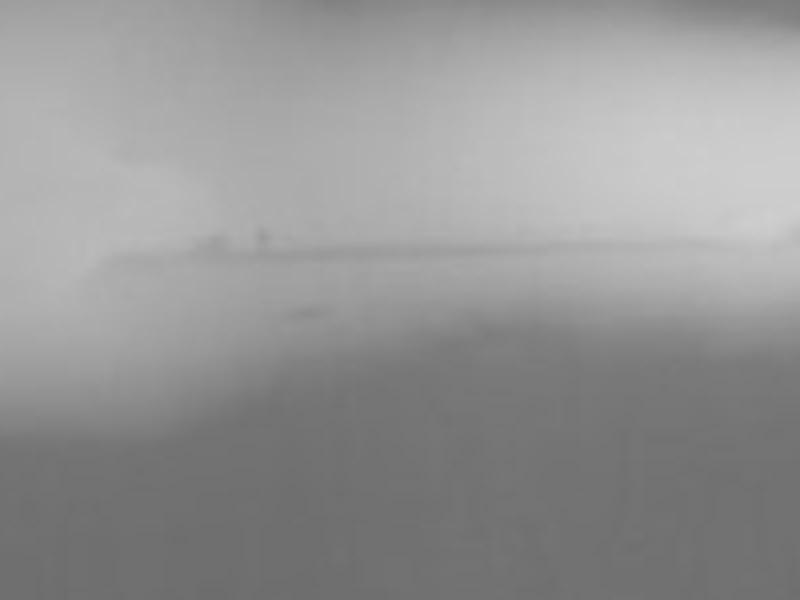defect: (186, 237, 231, 256), (250, 230, 273, 248)
